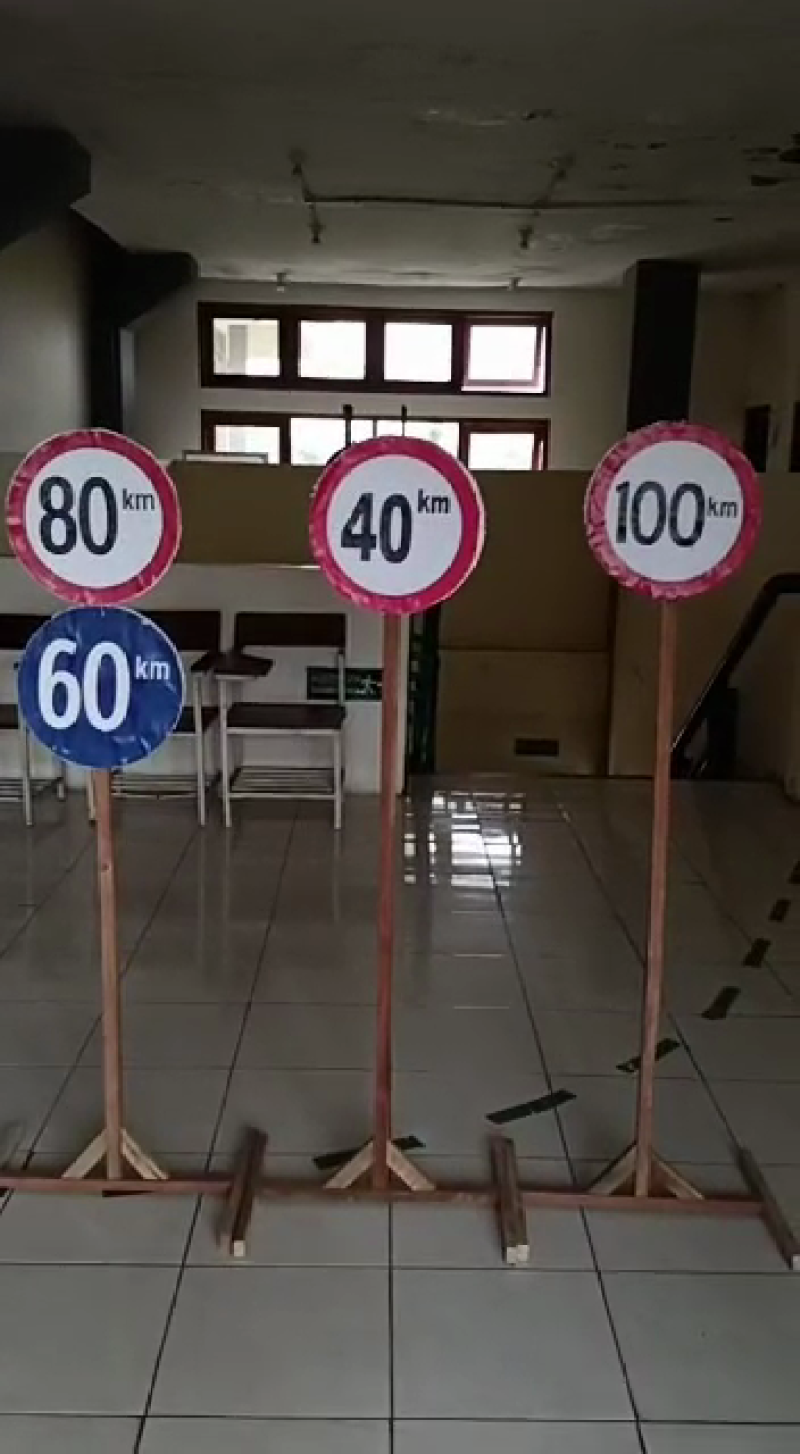batas maksimal 100kmperjam: (576, 418, 759, 605)
batas maksimal 40kmperjam: (303, 420, 492, 629)
batas maksimal 80kmperjam minimal 60kmperjam: (1, 418, 196, 781)
